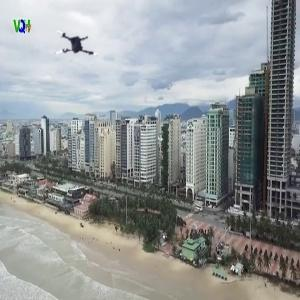drone: (48, 23, 100, 75)
